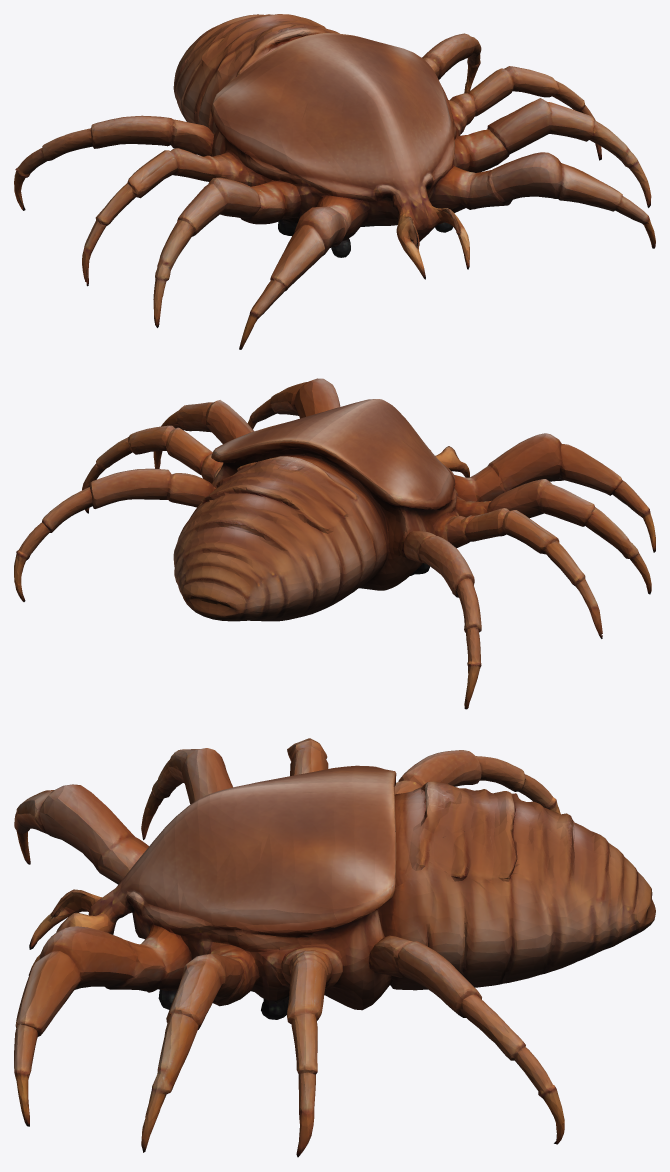
3 renders of one model, top to bottom at view 1: azimuth 30°, elevation 25°; view 2: azimuth 150°, elevation 25°; view 3: azimuth 270°, elevation 25°, orthographic. The views are drawn at different scales.
Parts seen in each view (by area): view 1: world; view 2: world; view 3: world.
Boxes of the visible parts, x1,y1,x2,y2 form: world: [14, 14, 655, 349]; world: [14, 378, 655, 709]; world: [14, 738, 655, 1157].
Size of the model in its own units: 1 by 0.3134 by 0.8245.
Materials: 1 (1 with a texture image).
